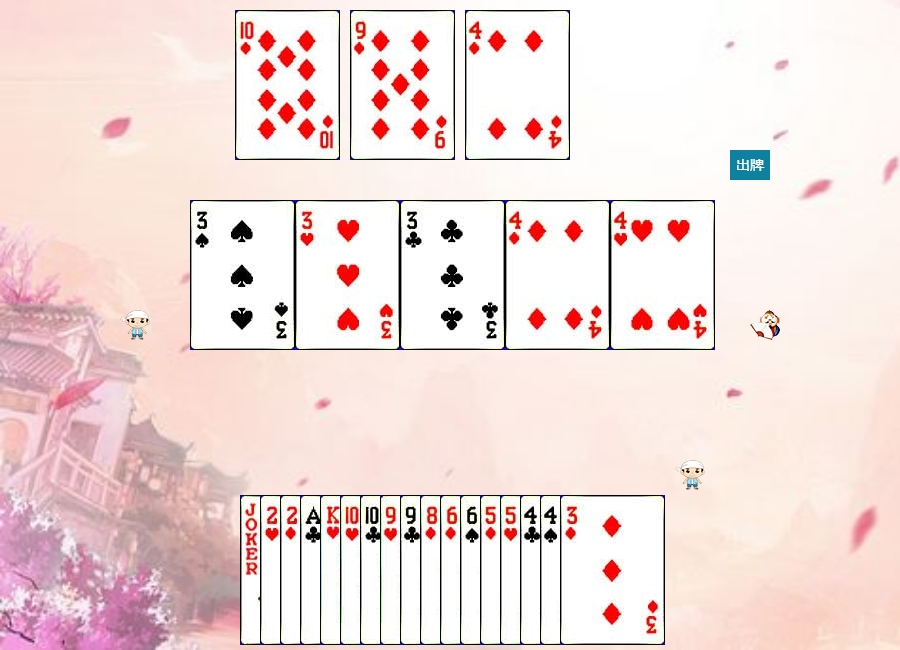10~1: (235, 10, 340, 160)
10~2: (360, 495, 465, 645)
10~3: (340, 495, 445, 645)
13~3: (320, 495, 425, 645)
14~2: (300, 495, 405, 645)
15~1: (280, 495, 385, 645)
15~3: (260, 495, 365, 645)
18~4: (240, 495, 345, 645)
3~1: (560, 495, 665, 645)
3~2: (400, 200, 505, 350)
3~3: (295, 200, 400, 350)
3~4: (190, 200, 295, 350)
4~1: (465, 10, 570, 160), (505, 200, 610, 350)
4~2: (520, 495, 625, 645)
4~3: (610, 200, 715, 350)
4~4: (540, 495, 645, 645)
5~1: (480, 495, 585, 645)
5~3: (500, 495, 605, 645)
6~1: (440, 495, 545, 645)
6~4: (460, 495, 565, 645)
8~1: (420, 495, 525, 645)
9~1: (350, 10, 455, 160)
9~2: (400, 495, 505, 645)
9~3: (380, 495, 485, 645)
